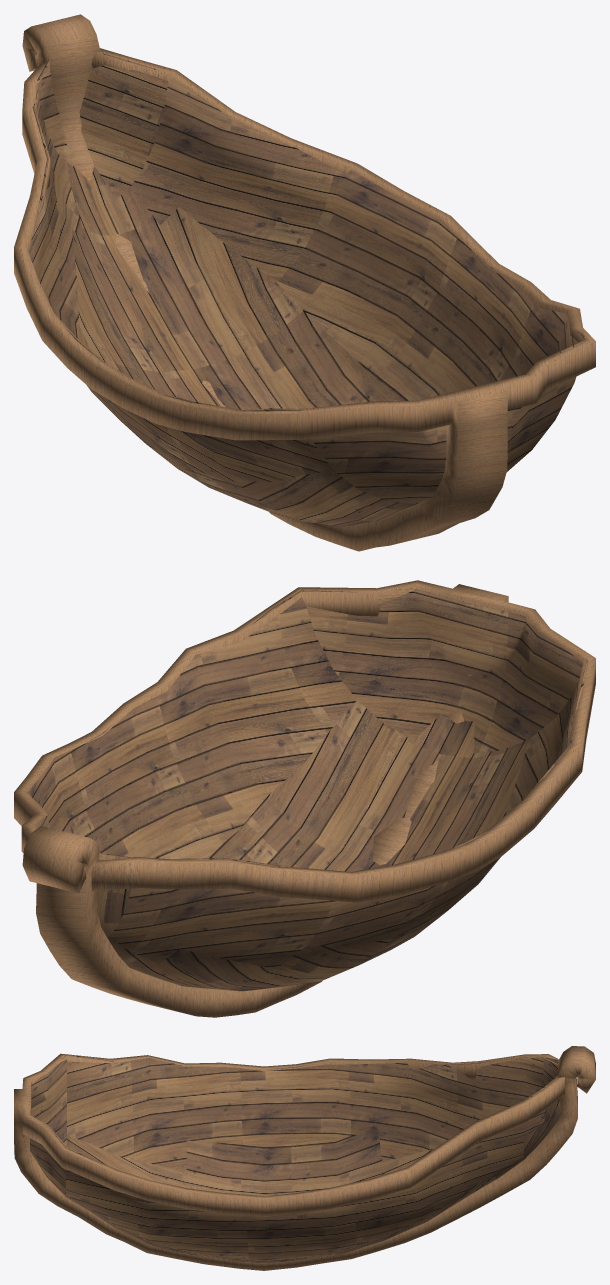
The model's file is ShipMeshColiderConvex.fbx.
3 renders of one model, top to bottom at view 1: azimuth 30°, elevation 25°; view 2: azimuth 150°, elevation 25°; view 3: azimuth 270°, elevation 25°, orthographic. The views are drawn at different scales.
Parts seen in each view (by area): view 1: ShipMeshColiderConvex; view 2: ShipMeshColiderConvex; view 3: ShipMeshColiderConvex.
Boxes of the visible parts, x1,y1,x2,y2 form: ShipMeshColiderConvex: (14,14,595,551); ShipMeshColiderConvex: (14,580,595,1017); ShipMeshColiderConvex: (14,1046,595,1270).
Bounding box in the file's own units: 249 × 181 × 458.
